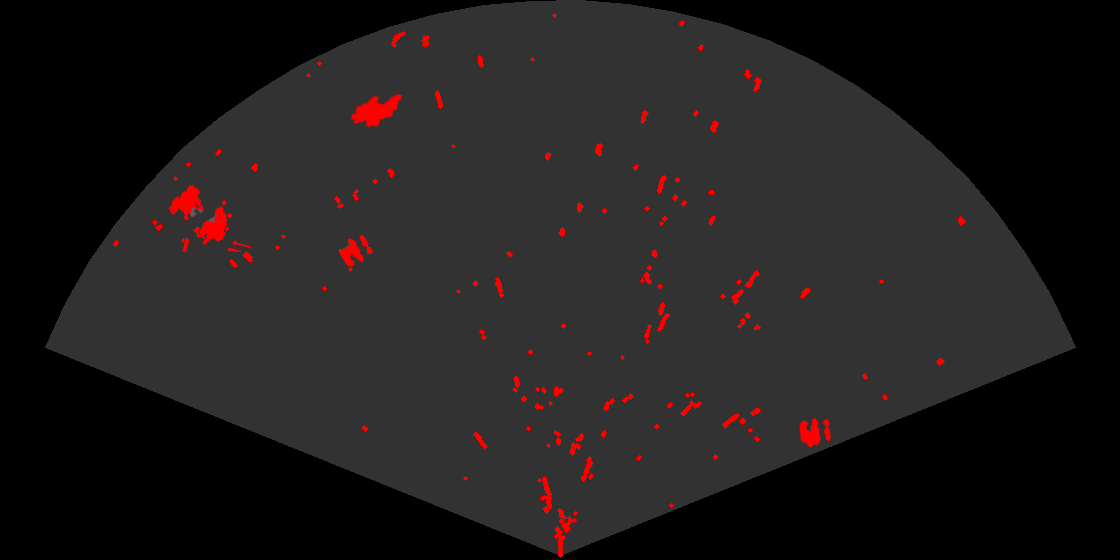AUV: (349, 92, 404, 129)
ball: (337, 233, 374, 269), (798, 416, 832, 449)
cage: (167, 183, 251, 252)
